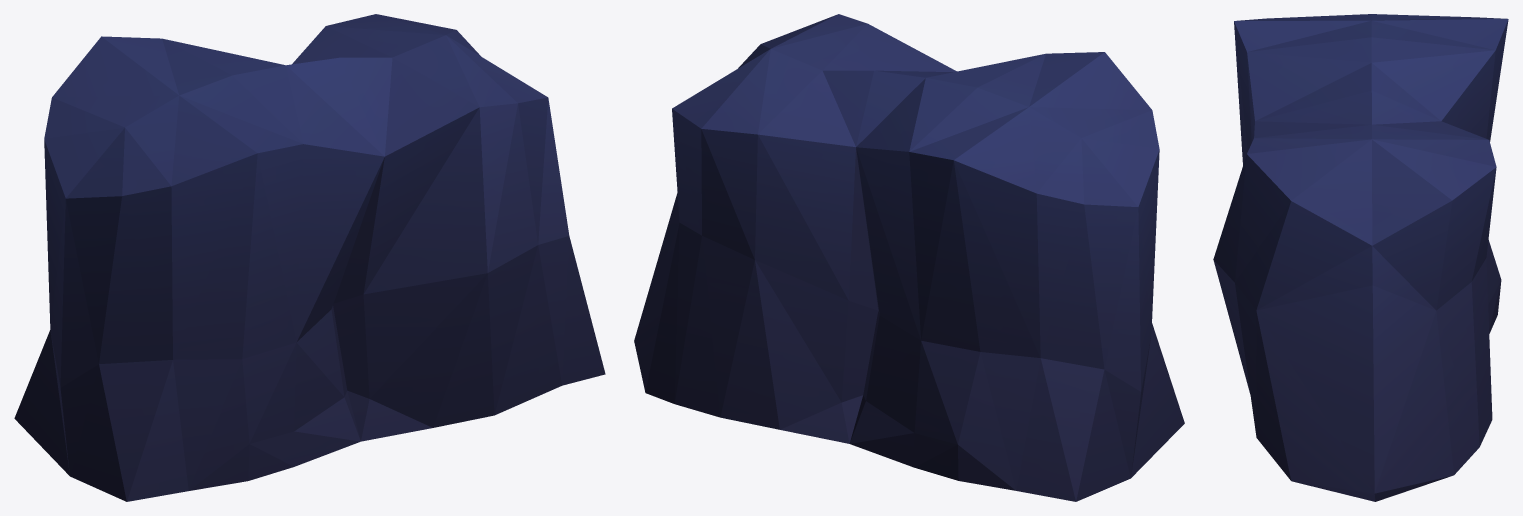
The model's file is caveWallPiece5.fbx.
3 renders of one model, left to right at view 1: azimuth 30°, elevation 25°; view 2: azimuth 150°, elevation 25°; view 3: azimuth 270°, elevation 25°, orthographic. The views are drawn at different scales.
Visible parts, largest first — view 1: caveWallPiece5; view 2: caveWallPiece5; view 3: caveWallPiece5.
Boxes of the visible parts, left/top/right/bottom form: caveWallPiece5: left=14, top=14, right=605, bottom=501; caveWallPiece5: left=634, top=14, right=1184, bottom=501; caveWallPiece5: left=1213, top=14, right=1508, bottom=501.
Size of the model in its own units: 1964 by 1410 by 1091.
